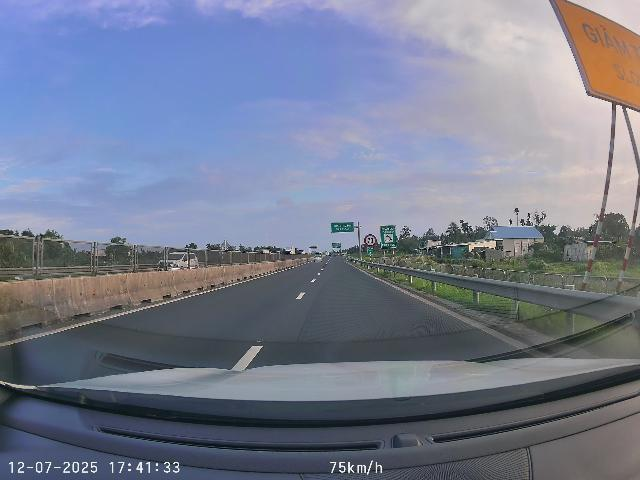127-toc-do-toi-da-70: (364, 234, 377, 247)
